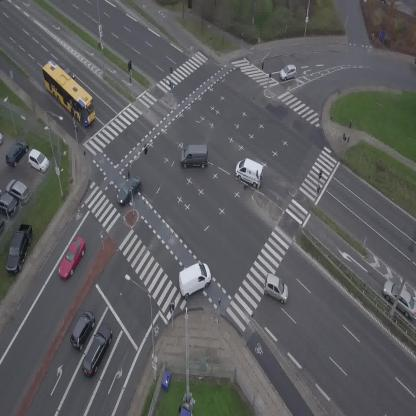bicycle: (410, 57, 416, 66)
bus: (34, 59, 105, 128)
car: (77, 322, 117, 379), (54, 235, 91, 282), (65, 308, 100, 352), (111, 175, 145, 207), (259, 273, 294, 304), (58, 61, 78, 81), (278, 63, 298, 81)
lorry: (172, 259, 217, 300), (231, 155, 269, 190), (180, 144, 208, 168)
